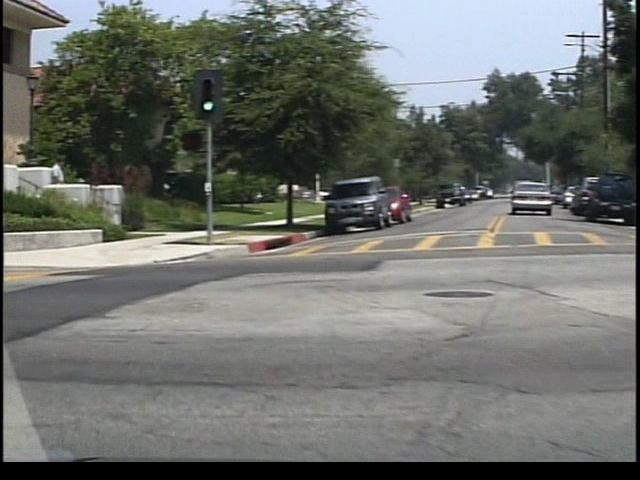person: (40, 152, 60, 215)
